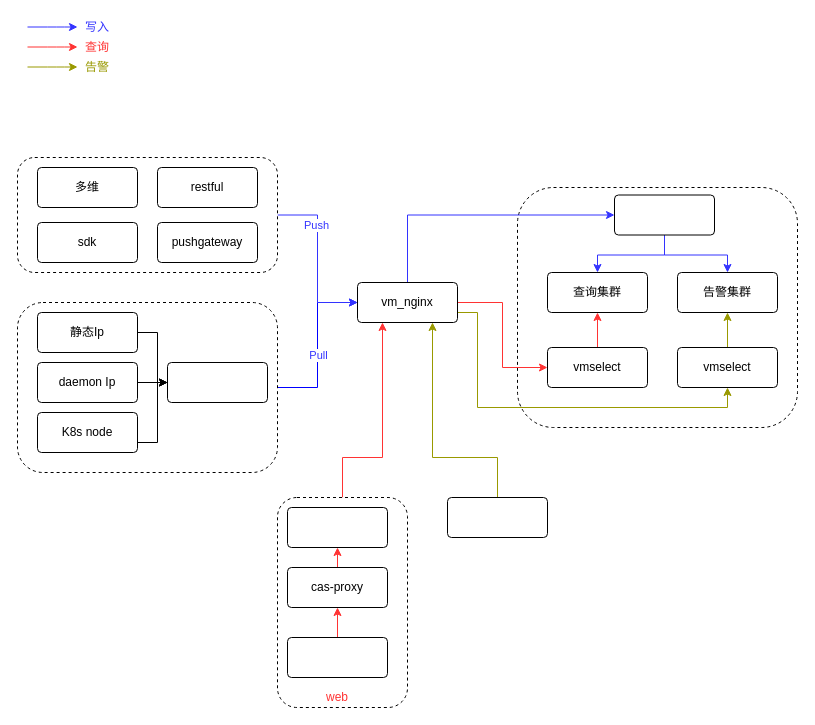
The diagram is 815 pixels wide and 725 high, and some of its shapes have lost their labels. Each missing label, with the centre of its shape:
"alert" goes at [497,517].
"grafana" goes at [337,527].
"grafana_nginx" goes at [337,657].
"vmagent" goes at [217,382].
"vminsert双写" goes at [664,214].
